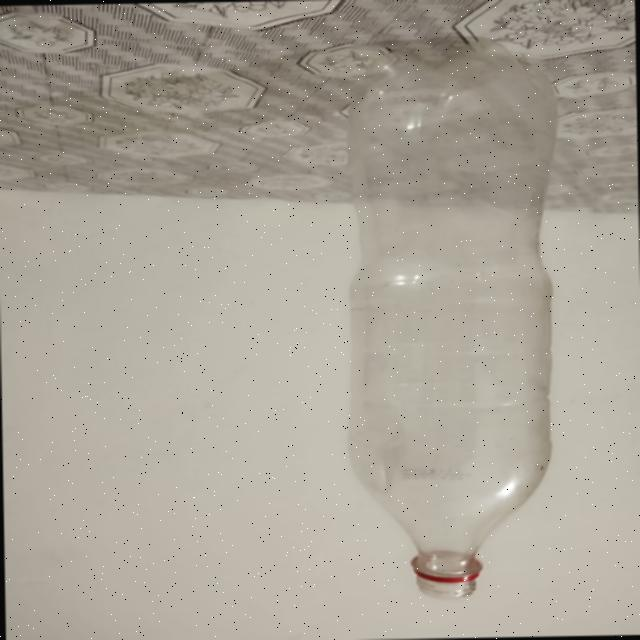bottle: (342, 38, 558, 602)
